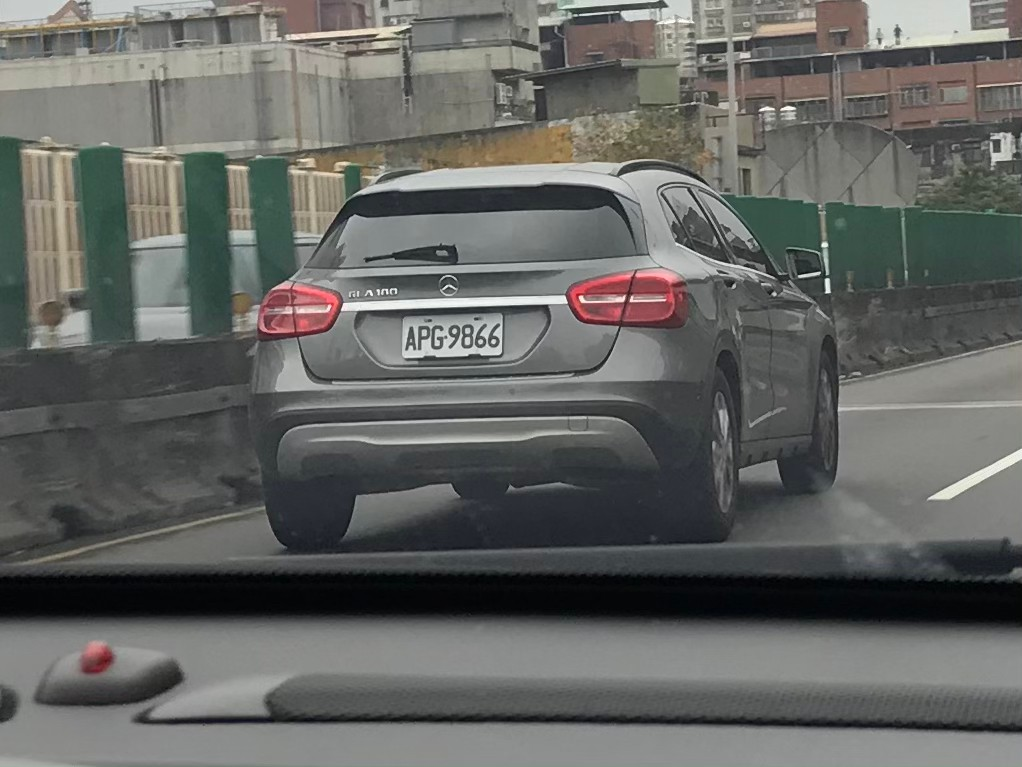LP: (399, 311, 507, 358)
